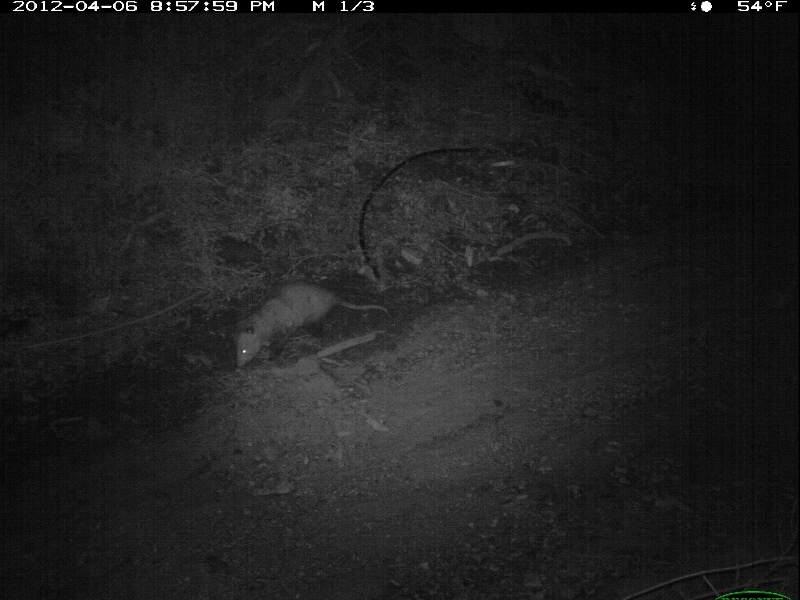opossum: (234, 281, 389, 368)
